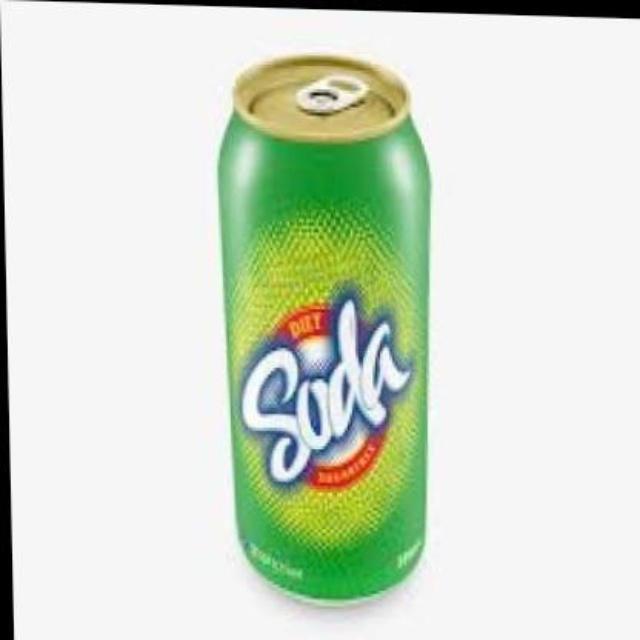trash: (218, 55, 428, 598)
